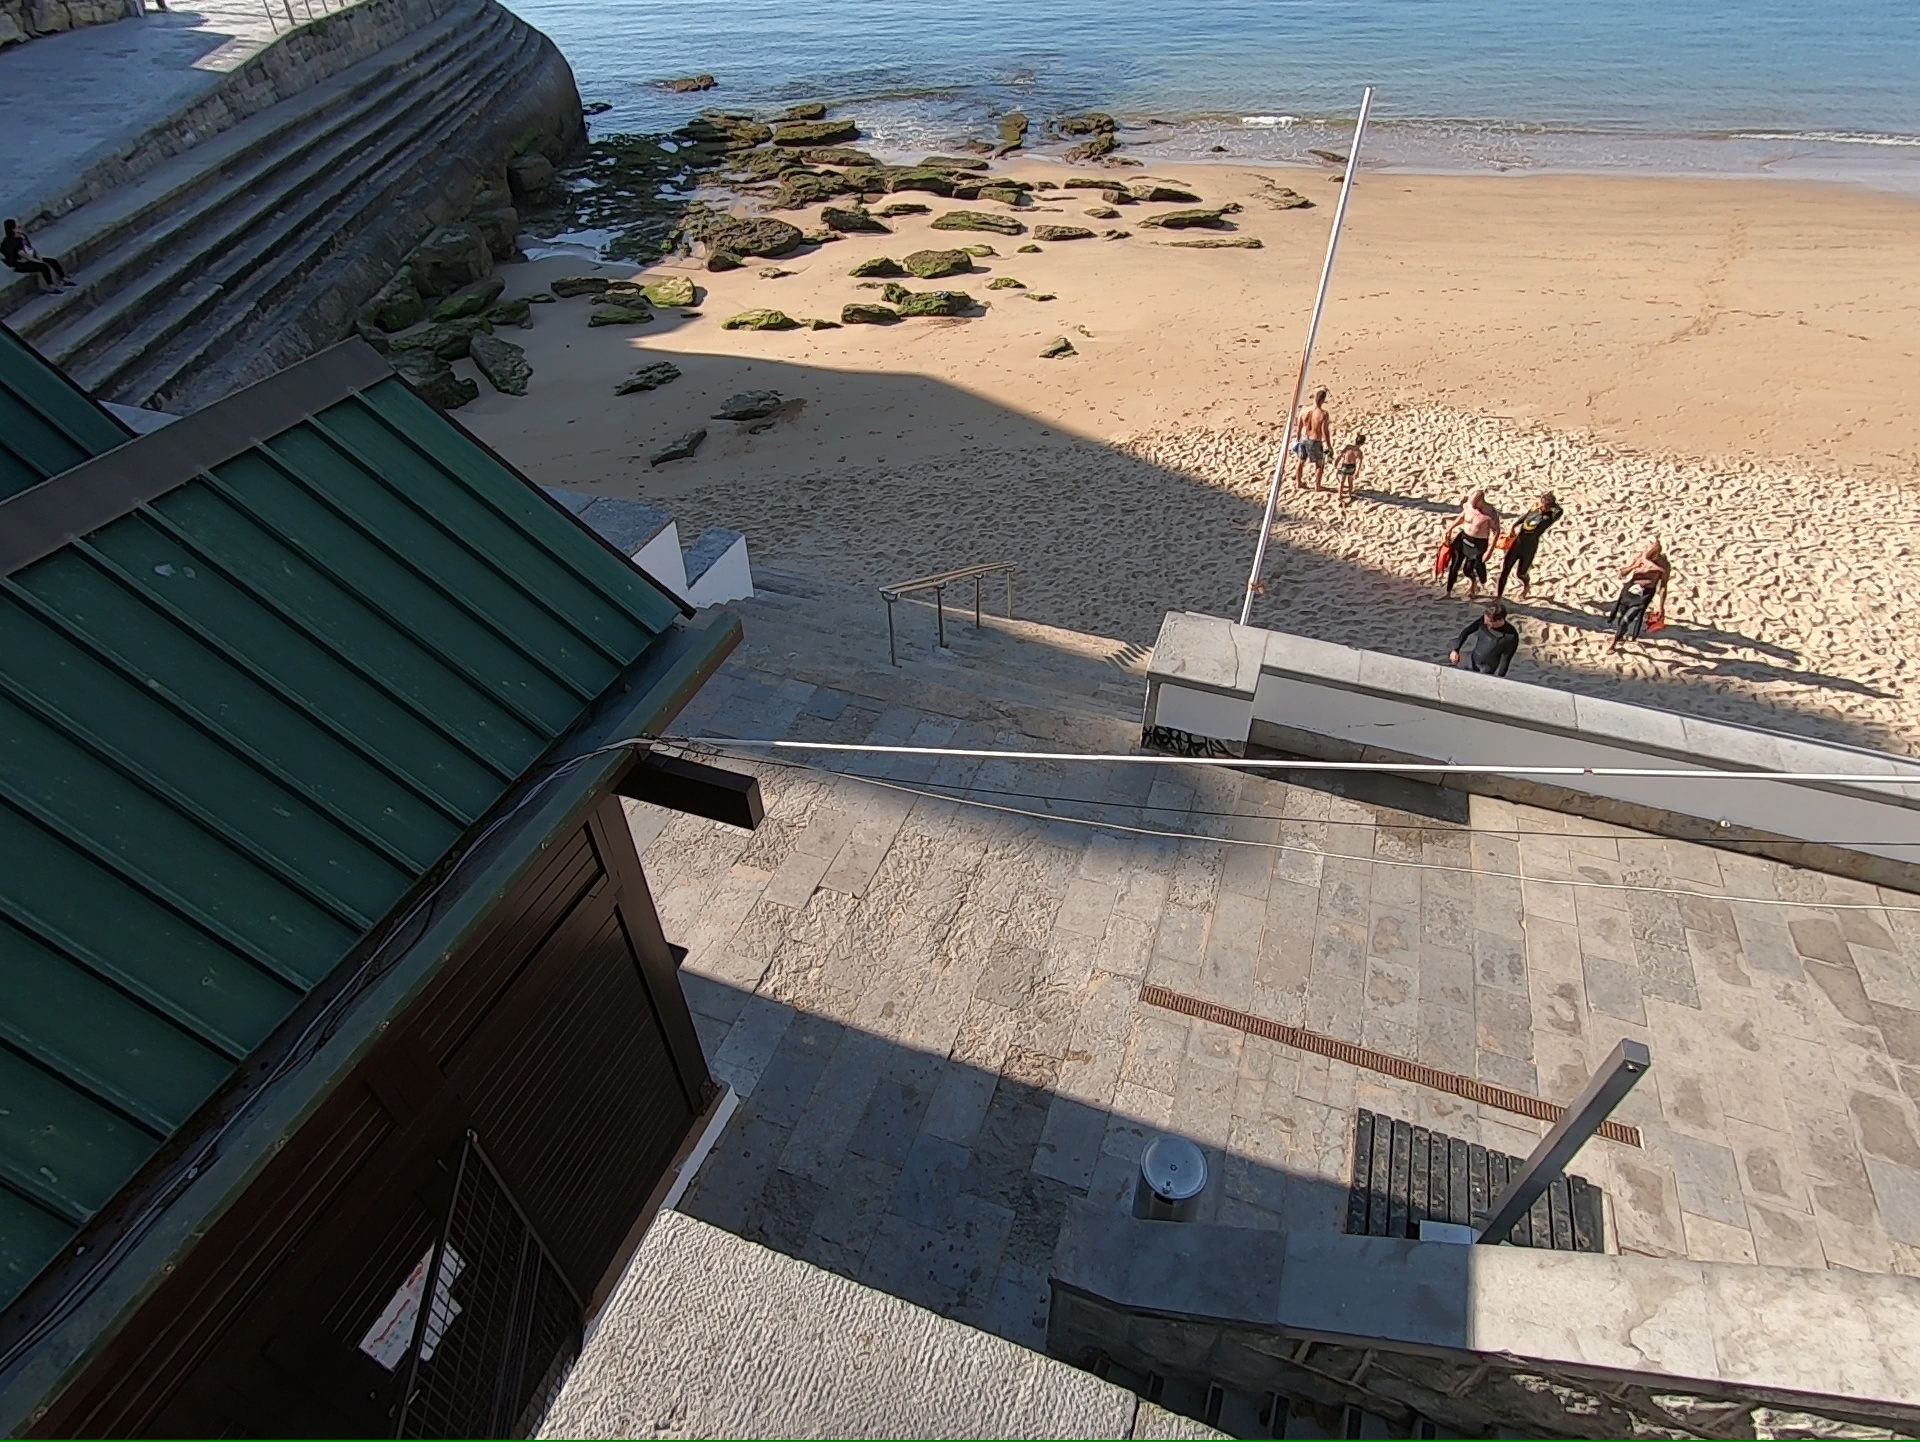person: (1607, 547, 1673, 651), (1435, 491, 1499, 594), (1503, 490, 1562, 597), (1291, 392, 1335, 493), (1461, 603, 1519, 669), (1335, 435, 1370, 497)
